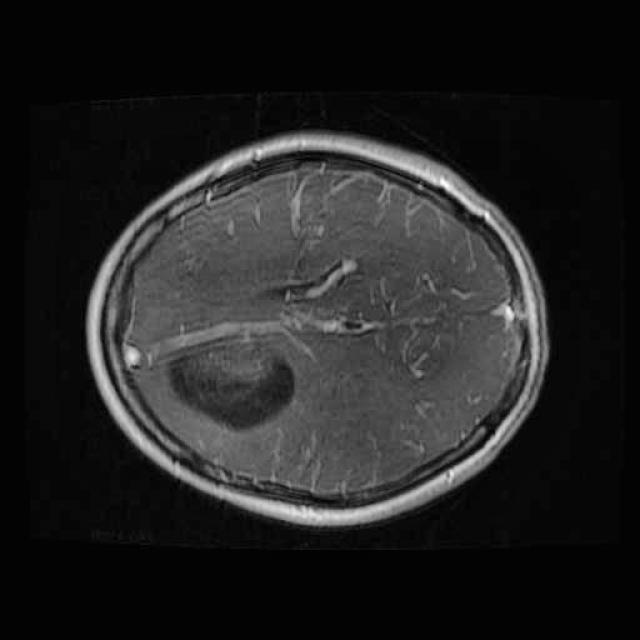Tumor: (152, 324, 312, 444)
